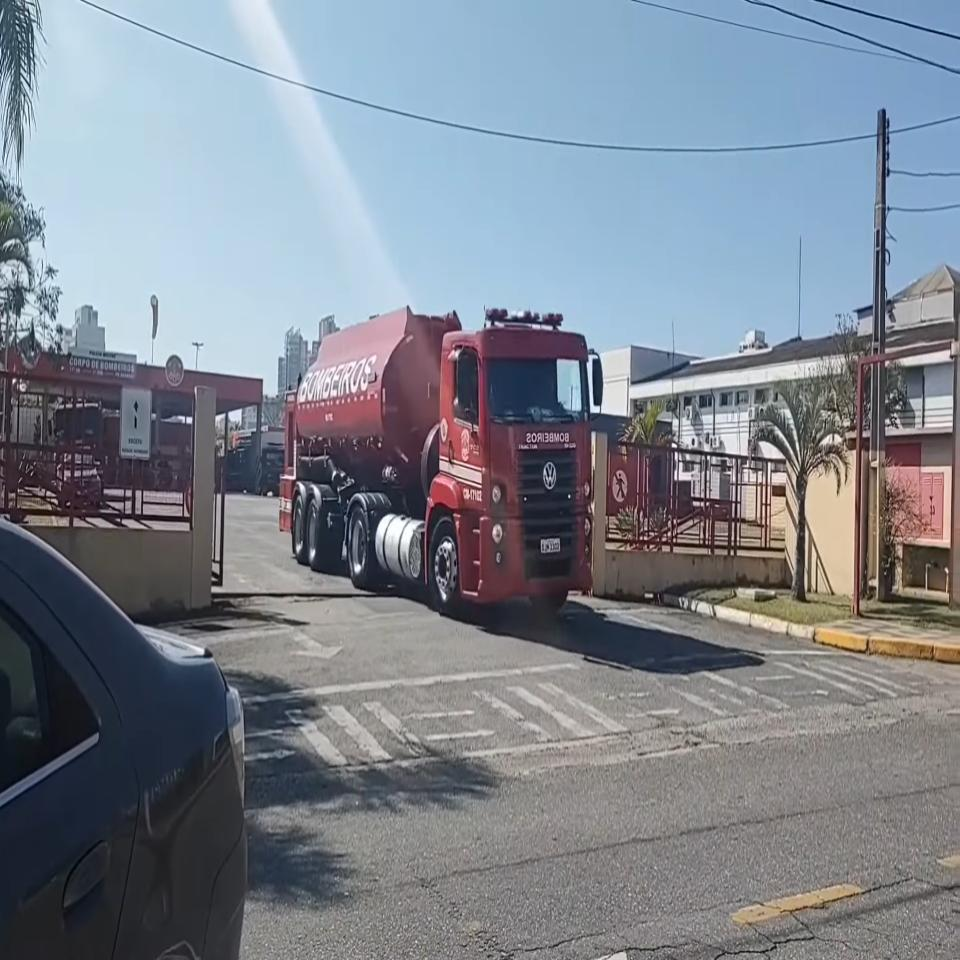viatura: (291, 302, 604, 614)
